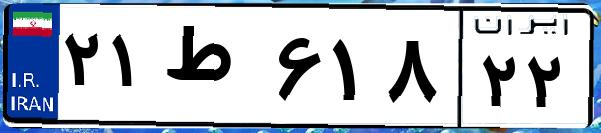1: (330, 28, 385, 110), (110, 28, 158, 98)
2: (57, 26, 110, 100), (475, 38, 525, 113), (525, 38, 570, 115)
6: (270, 28, 330, 110)
8: (385, 28, 445, 110)
ط: (158, 20, 270, 120)
